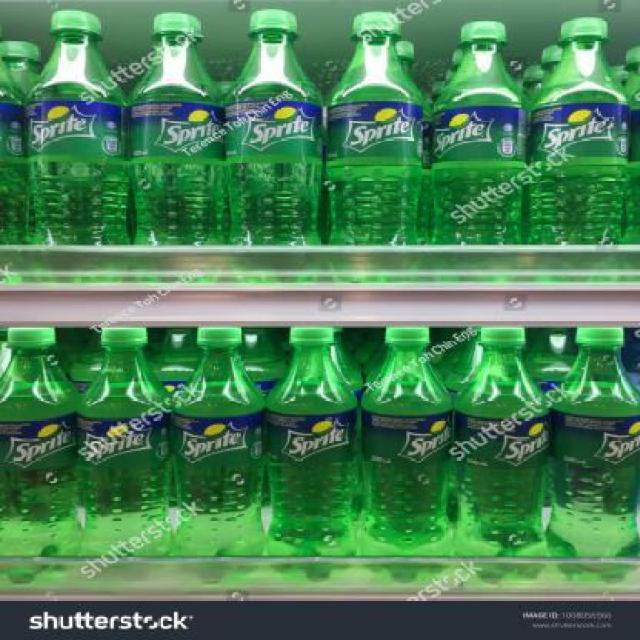Drinks: (24, 10, 130, 244), (325, 12, 429, 245), (532, 17, 634, 245), (430, 19, 532, 247), (225, 8, 322, 245), (168, 327, 266, 556), (130, 12, 225, 245), (266, 324, 359, 556), (359, 328, 452, 557), (546, 328, 639, 557), (75, 326, 168, 554), (454, 328, 546, 557), (0, 327, 75, 554)
